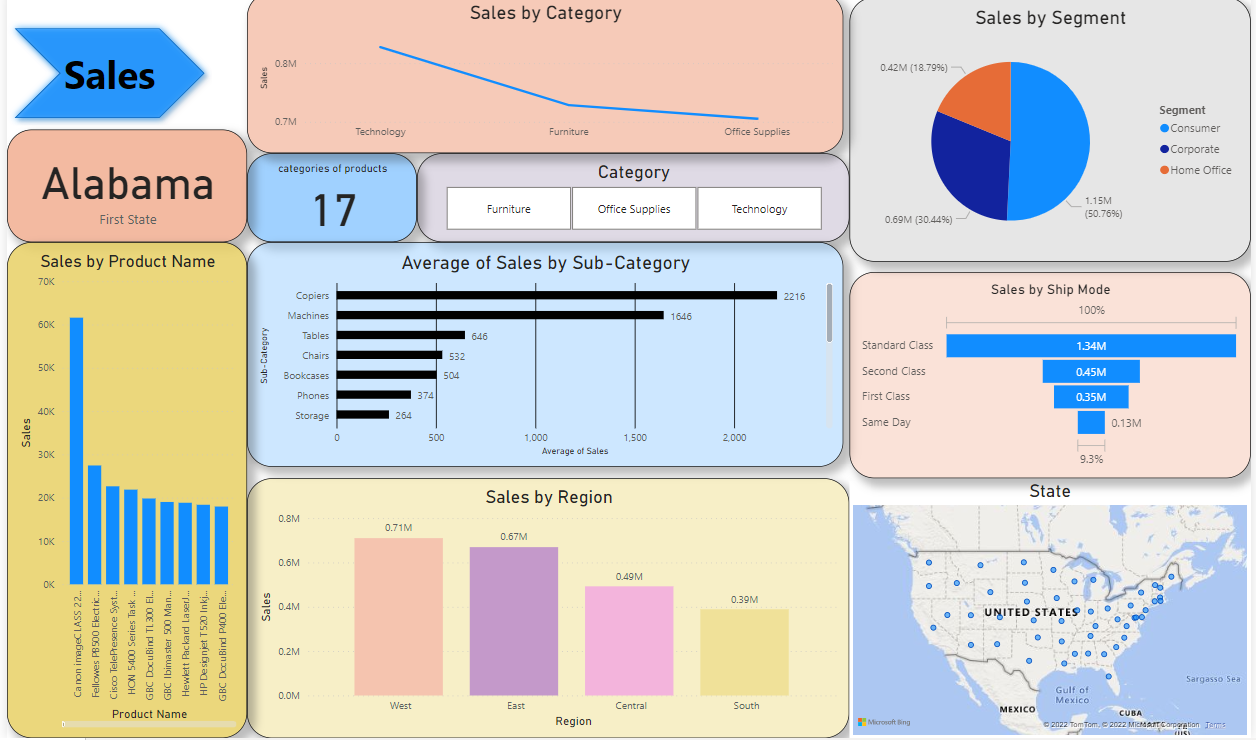

Layout of this report page (visuals, bound fields, positions):
{"tool":"powerbi","page":{"name":"Page 1","canvas":[1500,900],"ordinal":0},"visuals":[{"type":"shape","box":[0,34.7,247.2,126.6],"z":0},{"type":"slicer","title":"Category","fields":{"Values":["sales.Category"]},"box":[494.5,194.5,521.6,107],"z":1},{"type":"card","title":"categories of products","fields":{"Values":["Count(sales.Sub-Category)"]},"box":[289.4,194.5,205,107],"z":2},{"type":"barChart","fields":{"Category":["sales.Sub-Category"],"Y":["Avg(sales.Sales)"]},"box":[289.4,301.5,719.1,271.4],"z":3},{"type":"columnChart","fields":{"Category":["sales.Region"],"Y":["Sum(sales.Sales)"]},"box":[289.4,586.4,726.6,313.6],"z":4},{"type":"map","fields":{"Category":["sales.State"]},"box":[1016.1,589.4,483.9,310.6],"z":5},{"type":"funnel","fields":{"Category":["sales.Ship Mode"],"Y":["Sum(sales.Sales)"]},"box":[1016.1,337.7,483.9,248.7],"z":6},{"type":"card","fields":{"Values":["Min(sales.State)"]},"box":[0,165.8,289.4,135.7],"z":7},{"type":"pieChart","fields":{"Series":["sales.Segment"],"Y":["Sum(sales.Sales)"]},"box":[1016.1,6,483.9,319.6],"z":8},{"type":"clusteredColumnChart","fields":{"Category":["sales.Product Name"],"Y":["Sum(sales.Sales)"]},"box":[0,301.5,289.4,598.5],"z":9},{"type":"lineChart","fields":{"Category":["sales.Category"],"Y":["Sum(sales.Sales)"]},"box":[289.4,0,719.1,194.5],"z":10}]}

Visuals, with their boxes in screenshot pixels (x1, y1, x2, y2), scaled from the page's 1500x900 canvas onto the 1256x740 screenshot:
shape: 0, 29, 207, 133
"Category" slicer: 414, 160, 851, 248
"categories of products" card: 242, 160, 414, 248
barChart - sales.Sub-Category x Avg(sales.Sales): 242, 248, 844, 471
columnChart - sales.Region x Sum(sales.Sales): 242, 482, 851, 739
map - sales.State: 851, 485, 1255, 739
funnel - sales.Ship Mode x Sum(sales.Sales): 851, 278, 1255, 482
card - Min(sales.State): 0, 136, 242, 248
pieChart - sales.Segment x Sum(sales.Sales): 851, 5, 1255, 268
clusteredColumnChart - sales.Product Name x Sum(sales.Sales): 0, 248, 242, 739
lineChart - sales.Category x Sum(sales.Sales): 242, 0, 844, 160
